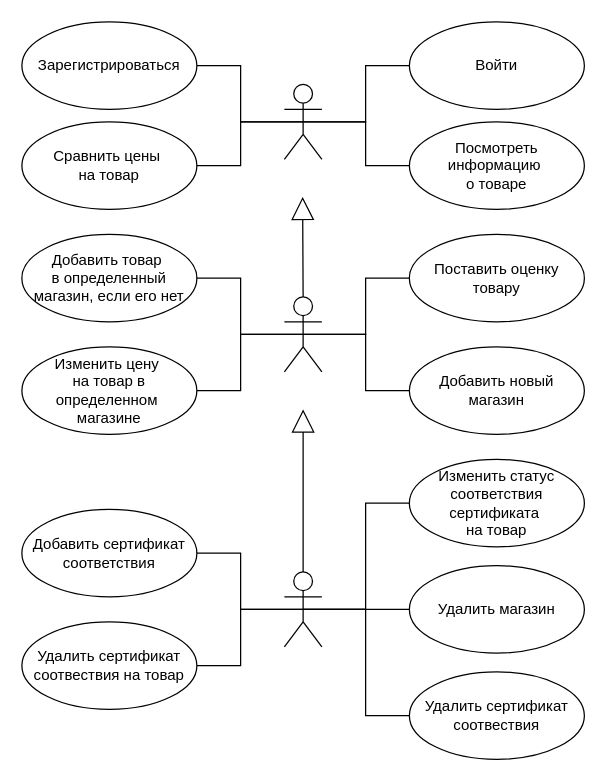
The diagram is 606 pixels wide and 781 high, and some of its shapes have lost their labels. The centre of each missing label's shape, as x and y in pixels:
"Администратор" goes at point 302,609.
"гость" goes at point 302,121.
"Пользователь" goes at point 302,334.
